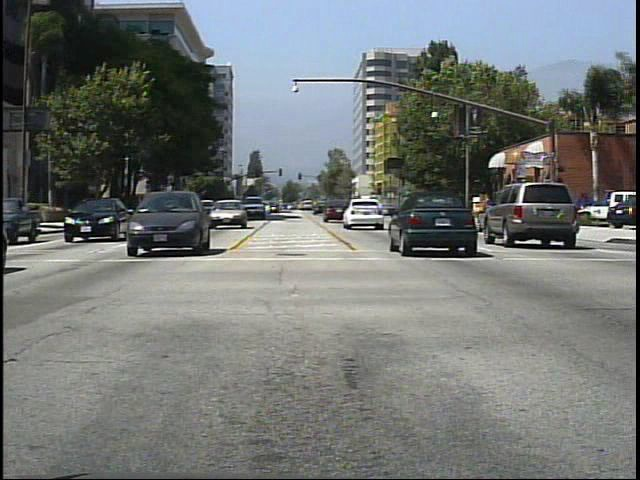person: (484, 189, 502, 225), (515, 195, 533, 230)
